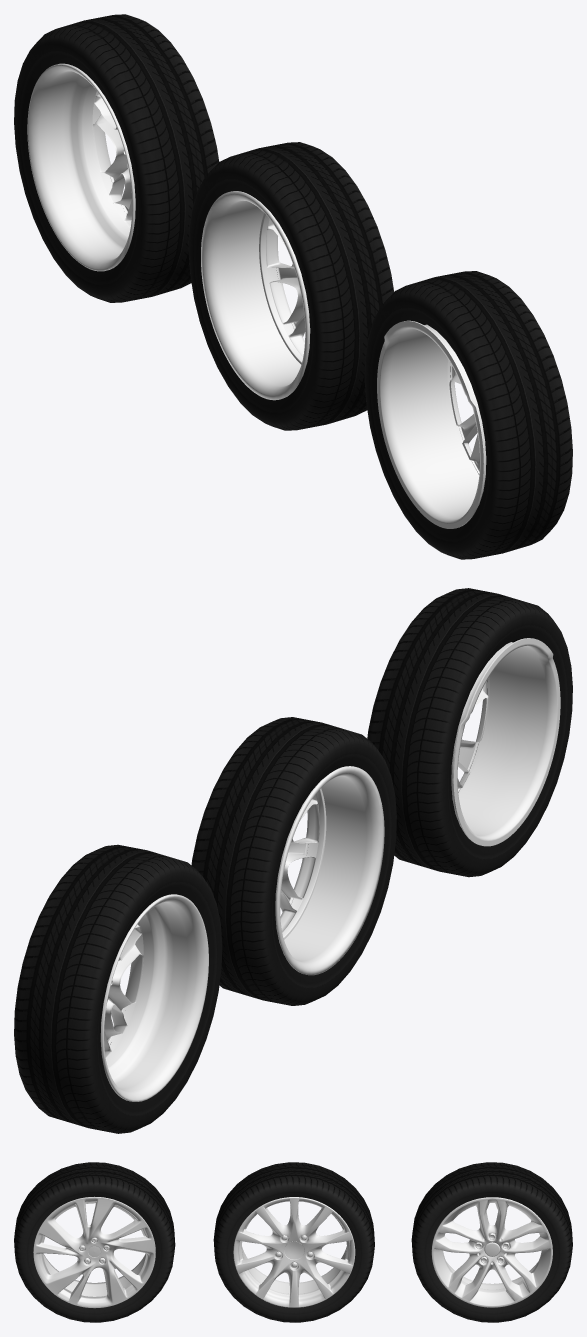
The model's file is Wheels.FBX.
3 renders of one model, top to bottom at view 1: azimuth 30°, elevation 25°; view 2: azimuth 150°, elevation 25°; view 3: azimuth 270°, elevation 25°, orthographic. The views are drawn at different scales.
Parts seen in each view (by area): view 1: Tile3, Tile1, Tile2, Rim1, Rim3, Rim2; view 2: Tile1, Tile3, Tile2, Rim1, Rim2, Rim3; view 3: Tile1, Tile2, Tile3, Rim3, Rim2, Rim1.
Boxes of the visible parts, bbox=[...] form: Tile3: bbox=[364, 271, 572, 559]; Tile1: bbox=[14, 14, 219, 302]; Tile2: bbox=[188, 142, 393, 430]; Rim1: bbox=[27, 63, 135, 271]; Rim3: bbox=[377, 320, 486, 528]; Rim2: bbox=[201, 191, 310, 400]; Tile1: bbox=[14, 844, 222, 1133]; Tile3: bbox=[367, 588, 572, 877]; Tile2: bbox=[191, 717, 396, 1005]; Rim1: bbox=[100, 894, 208, 1101]; Rim2: bbox=[275, 766, 384, 975]; Rim3: bbox=[451, 638, 560, 846]; Tile1: bbox=[411, 1162, 572, 1322]; Tile2: bbox=[213, 1162, 374, 1322]; Tile3: bbox=[14, 1162, 175, 1322]; Rim3: bbox=[33, 1196, 155, 1308]; Rim2: bbox=[233, 1197, 355, 1307]; Rim1: bbox=[431, 1197, 552, 1307].
Size of the model in its own units: 23.53 by 71.5 by 248.
